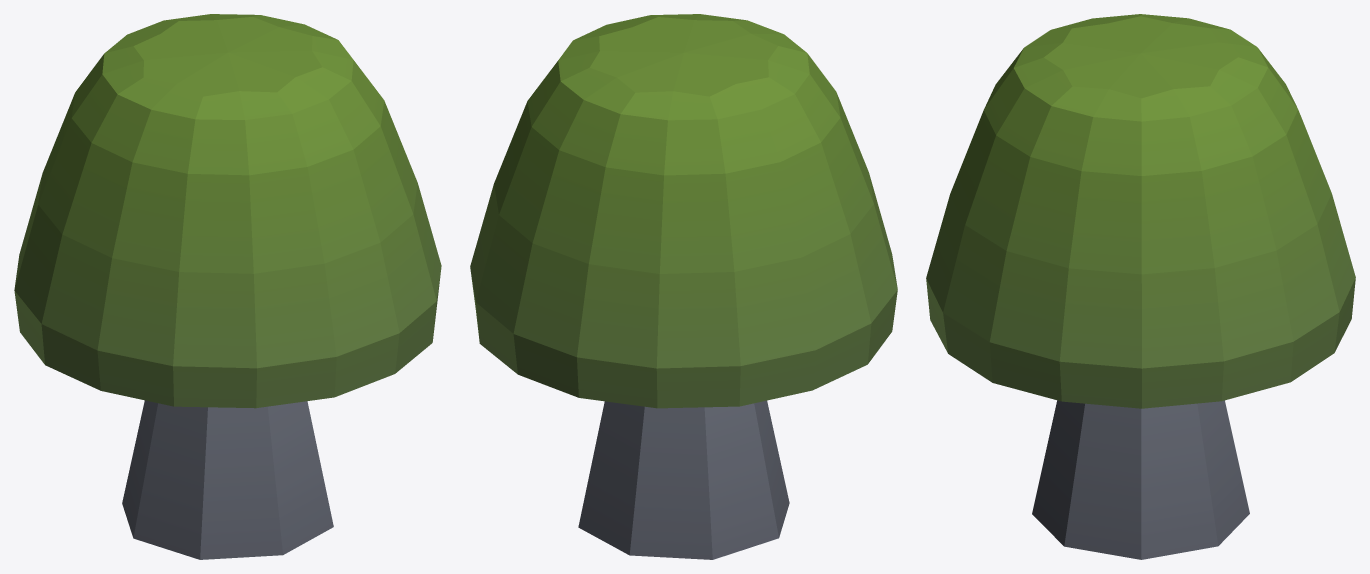
The model's file is Mushroom_16.fbx.
3 views of the same model, side by side, from view 1: azimuth 30°, elevation 25°; view 2: azimuth 150°, elevation 25°; view 3: azimuth 270°, elevation 25° (orthographic).
Visible parts, largest first — view 1: Mushroom_16; view 2: Mushroom_16; view 3: Mushroom_16.
Part boxes in pixels (x1,y1,x2,y2): Mushroom_16: (14, 14, 441, 559); Mushroom_16: (470, 14, 897, 559); Mushroom_16: (926, 14, 1355, 559).
Bounding box in the file's own units: 0.758 × 0.8963 × 0.758.
